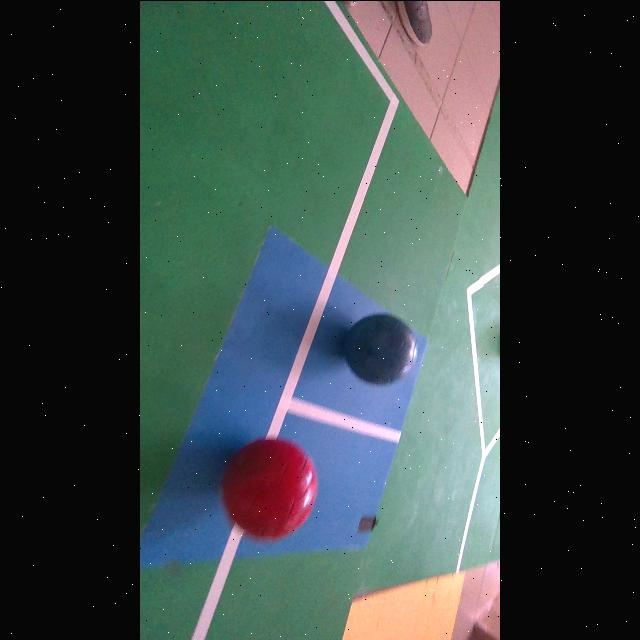B: (343, 313, 417, 384)
R: (222, 438, 318, 539)
